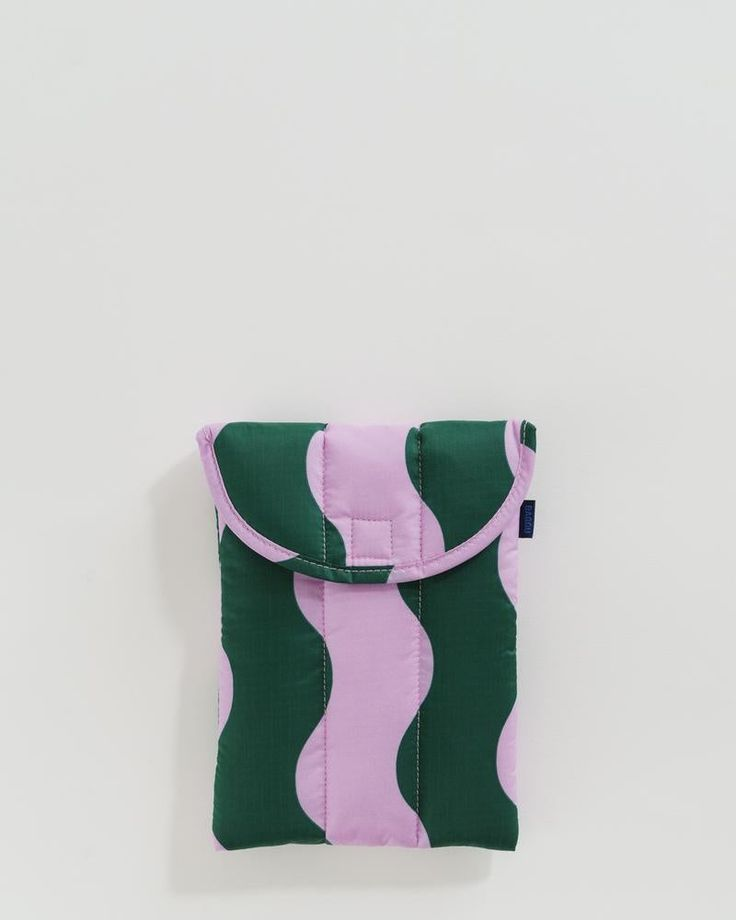nylon: (198, 420, 539, 852)
